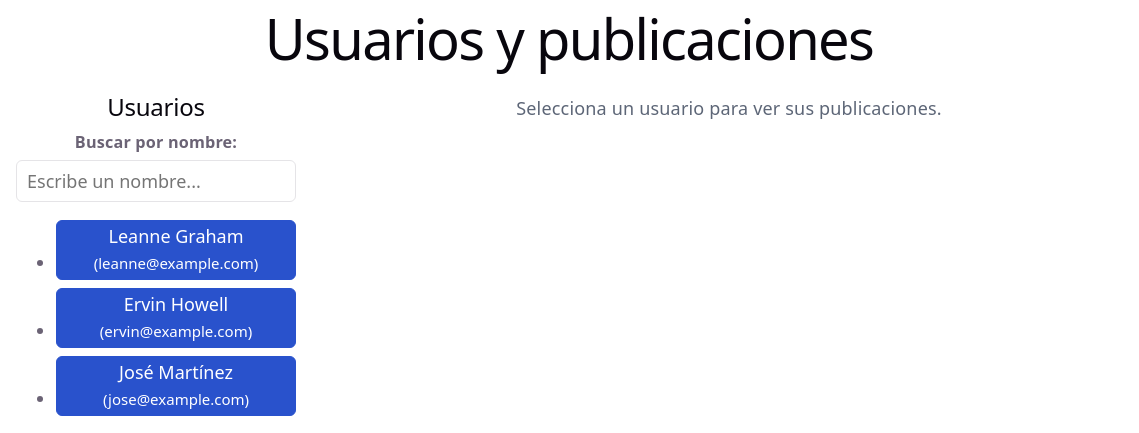
Test case: Publicaciones de un usuario › muestra las publicaciones del usuario elegido
The width and height of the screenshot is (1139, 433).
Click the button "Leanne Graham (leanne@example.com)": (176, 250) [56,220,296,280]
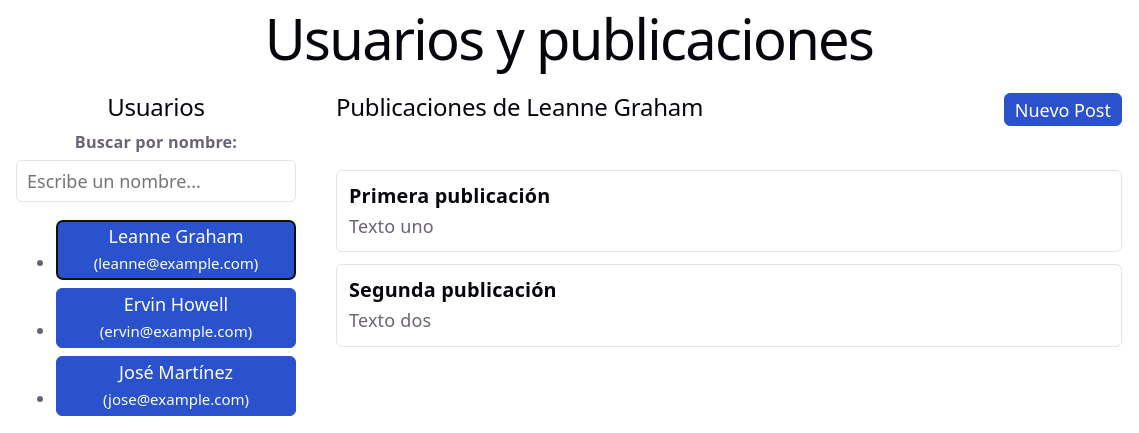
Now the heading "Primera publicación" is shown, box [349,182,550,209]
